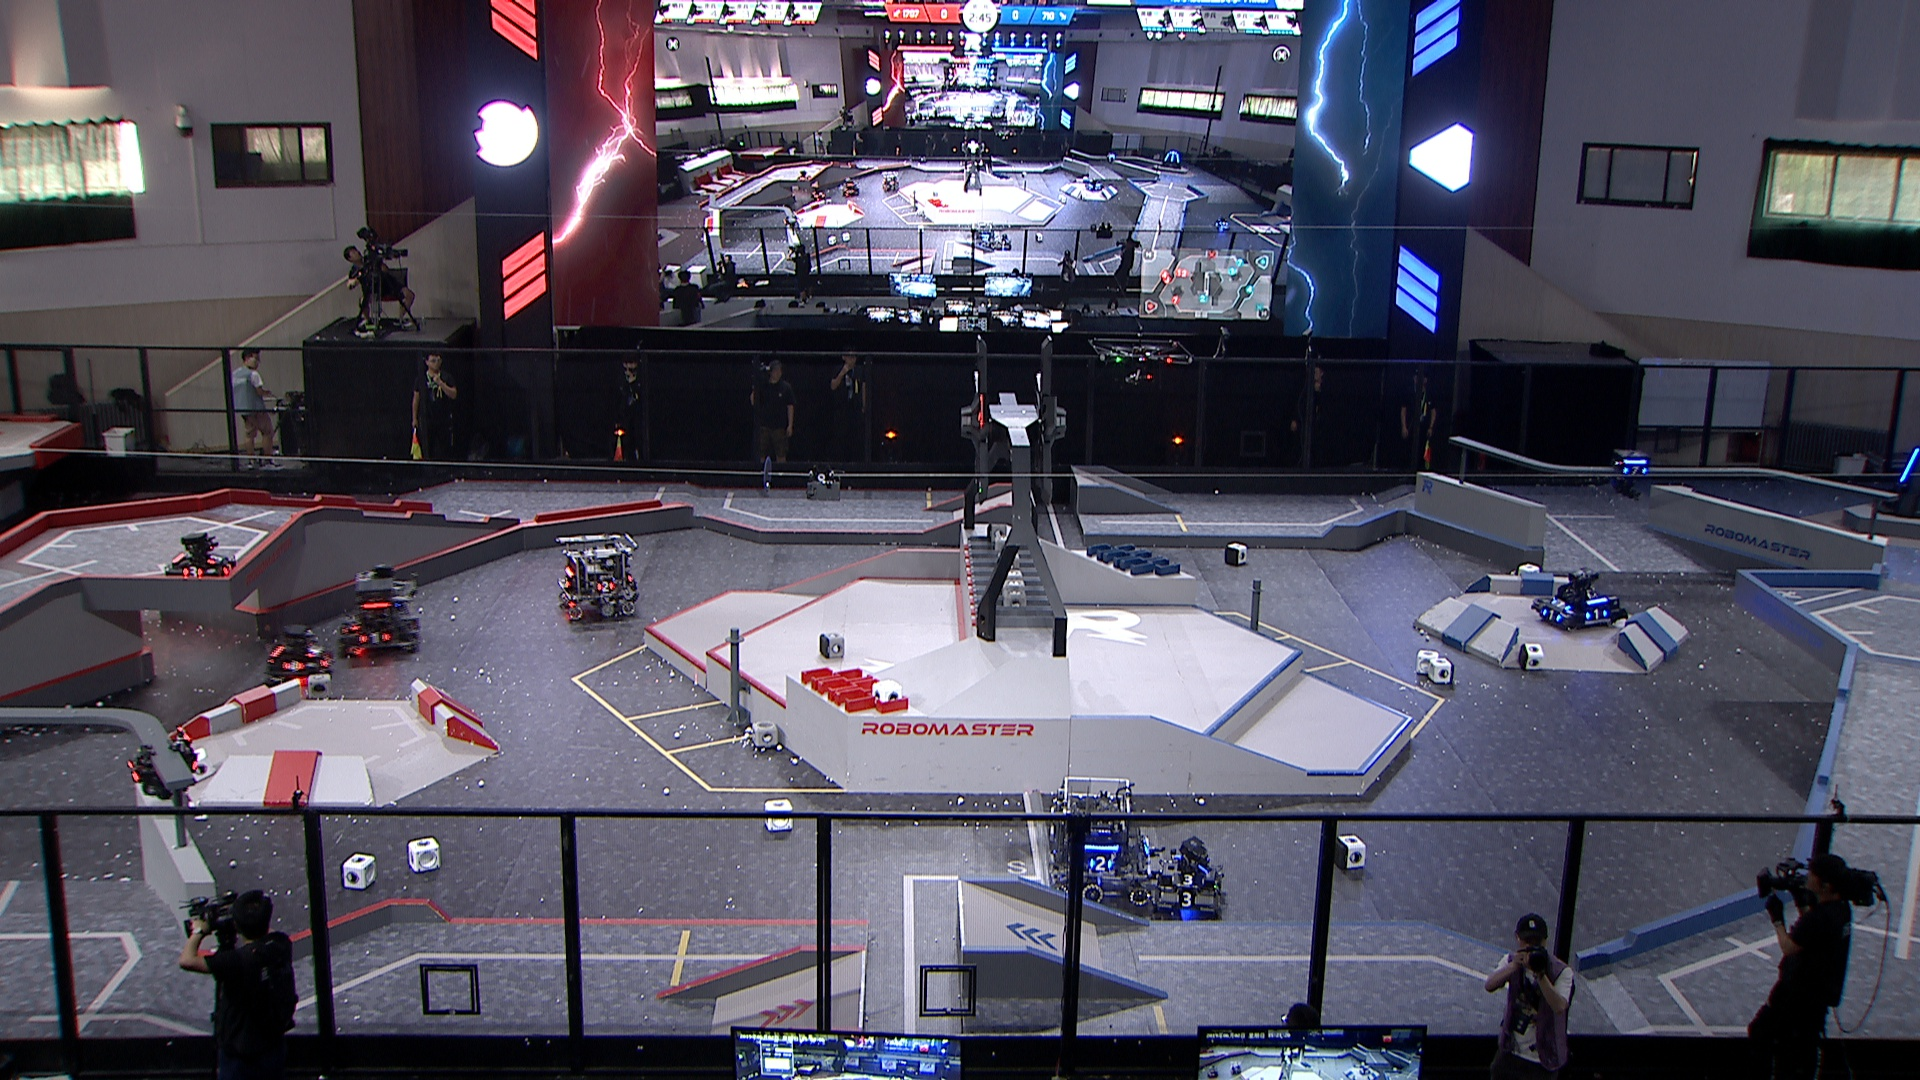armor: (1899, 448, 1920, 484), (1088, 855, 1116, 873), (1172, 873, 1207, 887), (357, 632, 390, 646), (1174, 891, 1200, 909), (1548, 597, 1575, 613), (1539, 608, 1565, 622), (127, 760, 141, 785), (179, 566, 204, 579), (1622, 465, 1650, 477), (1585, 608, 1607, 622), (281, 659, 305, 673), (596, 580, 617, 593), (207, 553, 225, 566), (305, 645, 323, 657), (319, 654, 334, 669), (222, 560, 237, 574)
base: (1878, 439, 1920, 522)
car: (1048, 775, 1158, 909), (338, 564, 425, 659), (556, 529, 640, 622), (1532, 568, 1627, 638), (1150, 836, 1224, 918), (164, 529, 240, 588), (264, 624, 335, 683)
ignore: (973, 222, 996, 255), (1160, 149, 1185, 171), (882, 169, 902, 195), (993, 232, 1013, 251), (843, 178, 860, 199), (1215, 215, 1233, 233), (781, 215, 800, 229), (1087, 177, 1102, 191), (796, 169, 814, 182), (1105, 152, 1120, 166), (808, 189, 825, 200)
watcher: (127, 725, 204, 803), (1611, 450, 1652, 500)
